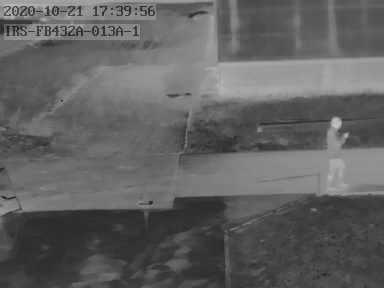person: (323, 114, 346, 188)
